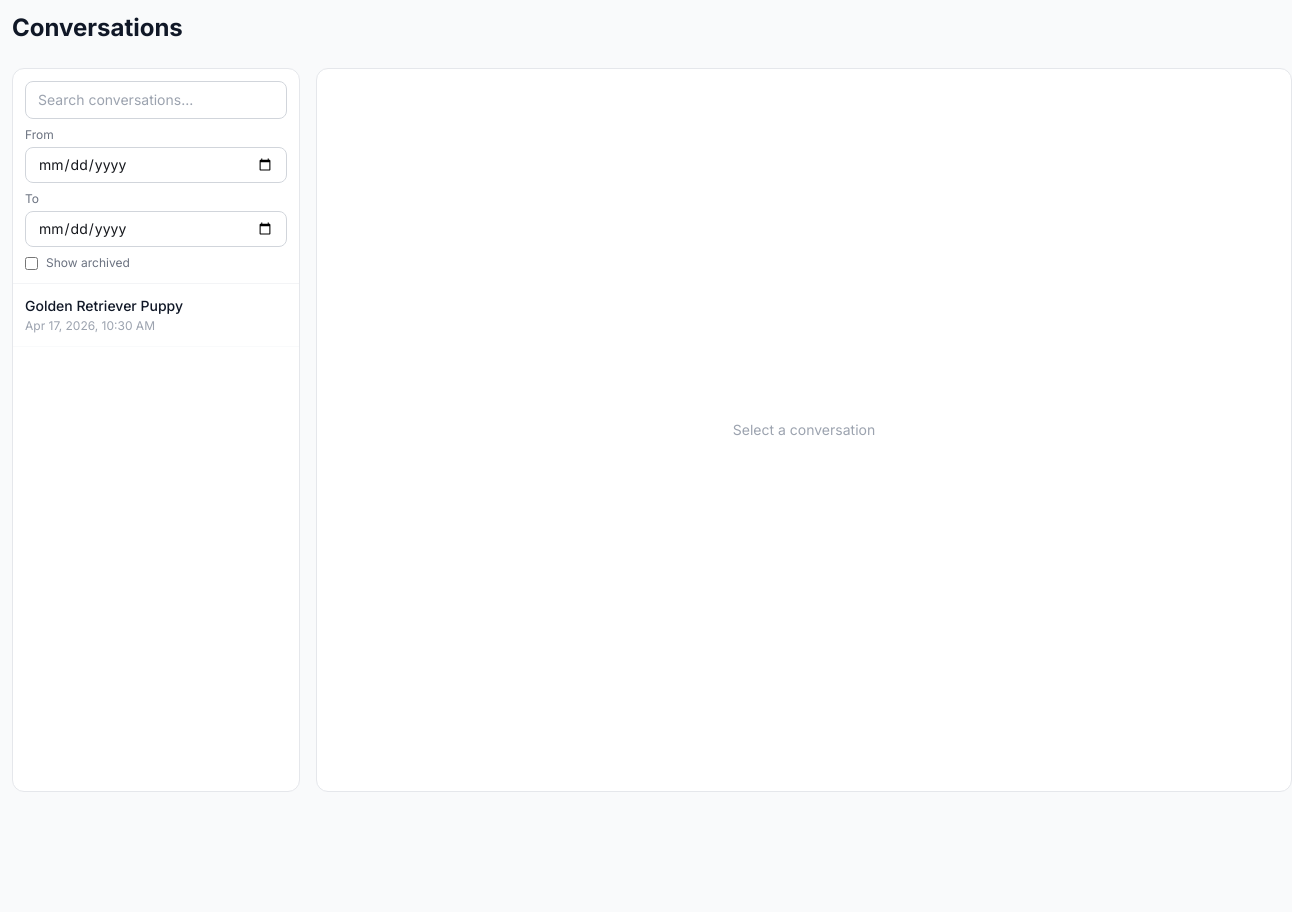
Scenario: Conversations — internal note message visibility › admin sees the "🔒 Internal Note" label on the internal message
Click the text "Golden Retriever Puppy": [104, 306] box 25,297 -> 183,314
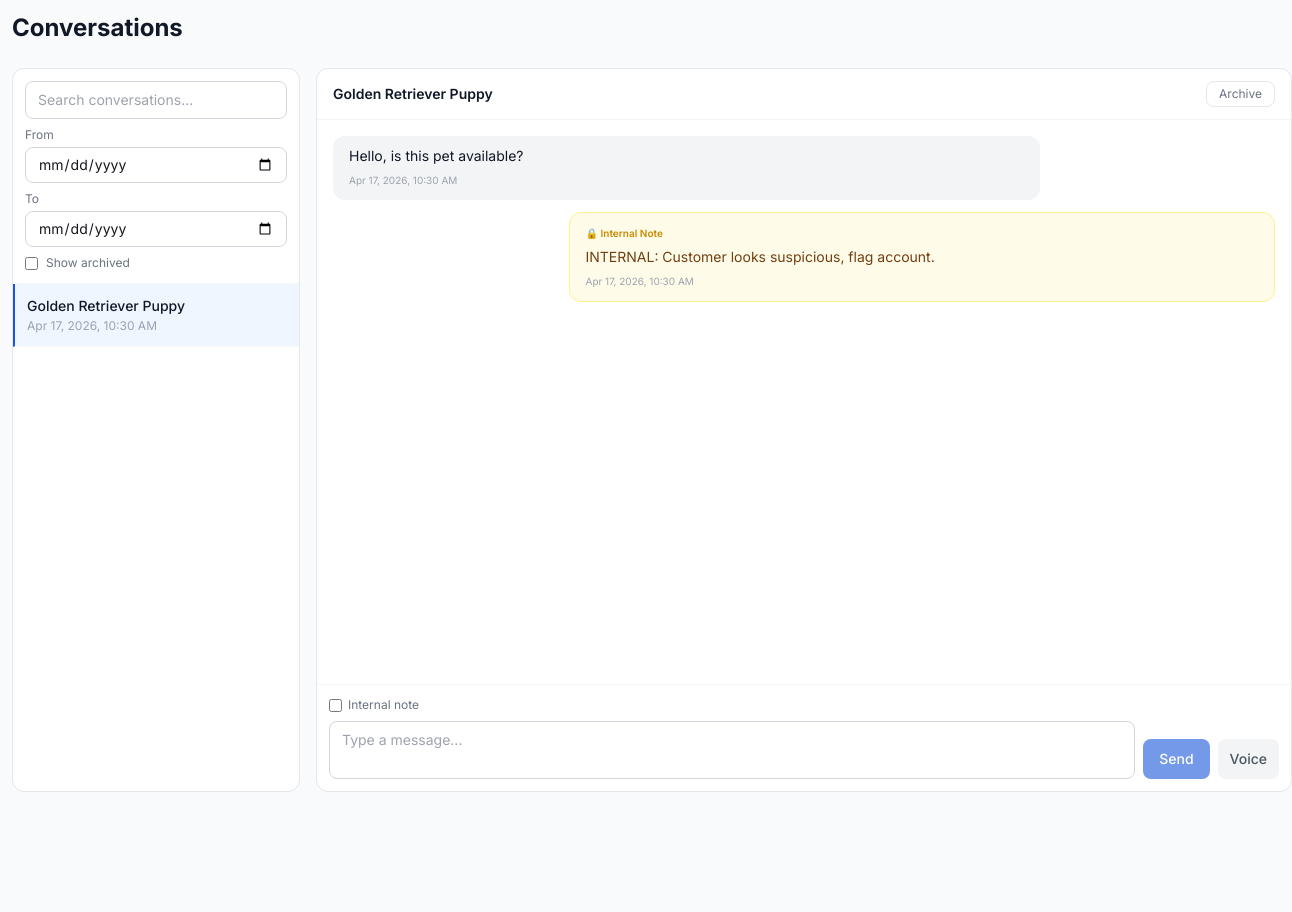
Now the text "Hello, is this pet available?" is shown, box 349,147 -> 524,164
Now the text "🔒 Internal Note" is shown, box 586,227 -> 663,239
